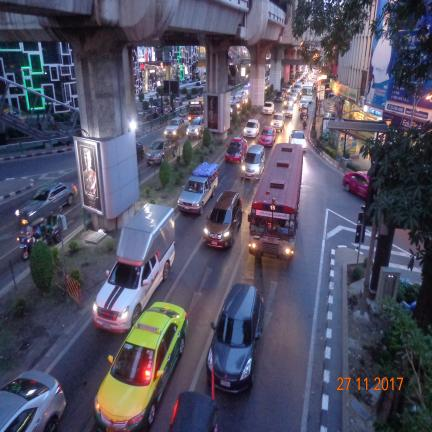bus: (248, 143, 303, 259), (188, 97, 203, 120), (302, 82, 313, 103)
car: (207, 284, 264, 392), (0, 370, 65, 432), (15, 181, 78, 220), (204, 191, 242, 247), (146, 138, 180, 165), (241, 144, 265, 179), (187, 116, 204, 138), (289, 130, 306, 151), (243, 119, 259, 138), (262, 101, 274, 114), (284, 105, 293, 118), (299, 98, 309, 109), (275, 90, 284, 102)
motorbike: (17, 215, 61, 261), (17, 224, 42, 261), (302, 117, 307, 129)
pickup: (164, 117, 189, 138), (270, 111, 285, 132)
taxi: (95, 302, 187, 432), (343, 171, 369, 199), (225, 137, 247, 163), (259, 126, 276, 146)
truck: (93, 204, 175, 332), (178, 162, 218, 214), (164, 117, 189, 139)
